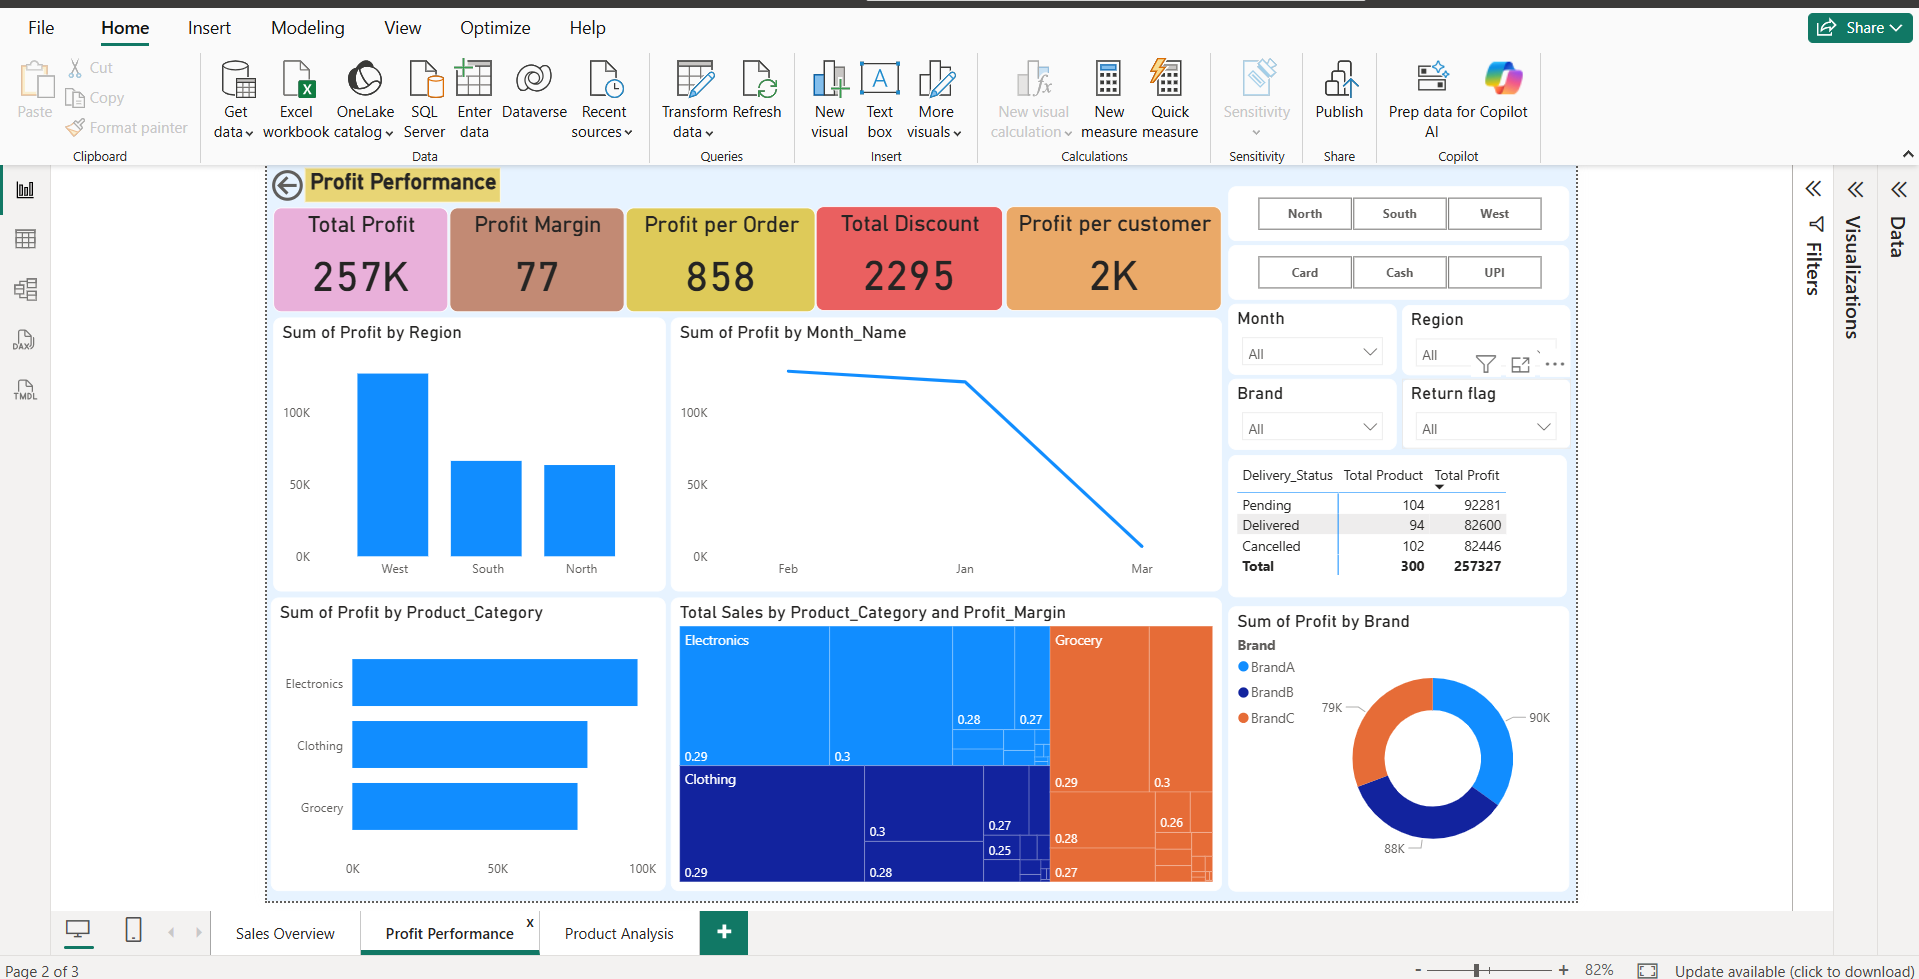

The page's visual inventory and layout, read from the dashboard file:
{"tool":"powerbi","page":{"name":"Profit Performance","canvas":[1280,720],"ordinal":1},"visuals":[{"type":"card","title":"Total Profit","fields":{"Values":["Sheet1.Total Profit"]},"box":[6.1,41.6,171.2,102.7],"z":0},{"type":"card","title":"Profit Margin","fields":{"Values":["Sum(Sheet1.Profit_Margin)"]},"box":[178.5,41.6,171.2,102.7],"z":1000},{"type":"card","title":"Profit per customer","fields":{"Values":["Sheet1.Profit per customer"]},"box":[722.7,40.4,211.6,102.7],"z":2000},{"type":"card","title":"Profit per Order","fields":{"Values":["Sheet1.Profit Per Order"]},"box":[351,41.6,185.9,102.7],"z":3000},{"type":"lineChart","fields":{"Y":["Sum(Sheet1.Profit)"],"Category":["Sheet1.Month_Name"]},"box":[395,149.2,539.3,267.8],"z":4000},{"type":"columnChart","fields":{"Y":["Sum(Sheet1.Profit)"],"Category":["Sheet1.Region"]},"box":[6.1,149.2,384,267.8],"z":5000},{"type":"barChart","fields":{"Y":["Sum(Sheet1.Profit)"],"Category":["Sheet1.Product_Category"]},"box":[3.7,423.1,386.4,287.4],"z":6000},{"type":"pivotTable","fields":{"Rows":["Sheet1.Delivery_Status"],"Values":["Sheet1.Total Product","Sheet1.Total Profit"]},"box":[940.4,283.7,331.4,139.4],"z":7000},{"type":"actionButton","box":[0,0,100,40],"z":8000},{"type":"slicer","title":"Month","fields":{"Values":["Sheet1.Month_Name"]},"box":[940.4,135.7,165.1,69.7],"z":9000},{"type":"slicer","title":"Region ","fields":{"Values":["Sheet1.Region"]},"box":[1110.3,137,165.1,68.5],"z":10000},{"type":"slicer","title":"Return flag ","fields":{"Values":["Sheet1.Return_Flag"]},"box":[1110.3,209.1,165.1,68.5],"z":11000},{"type":"slicer","title":"Brand","fields":{"Values":["Sheet1.Brand"]},"box":[940.4,209.1,165.1,69.7],"z":12000},{"type":"donutChart","fields":{"Category":["Sheet1.Brand"],"Y":["Sum(Sheet1.Profit)"]},"box":[940.4,431.7,333.8,278.8],"z":13000},{"type":"card","title":"Total Discount","fields":{"Values":["Sheet1.Gross Discount"]},"box":[536.8,40.4,183.4,102.7],"z":14000},{"type":"slicer","title":"Brand","fields":{"Values":["Sheet1.Payment_Method"]},"box":[940.4,78.3,333.8,53.8],"z":15000},{"type":"slicer","title":"Brand","fields":{"Values":["Sheet1.Region"]},"box":[940.4,20.8,333.8,53.8],"z":16000},{"type":"treemap","fields":{"Group":["Sheet1.Product_Category"],"Details":["Sheet1.Profit_Margin"],"Values":["Sheet1.Total Sales"]},"box":[395,423.1,539.3,287.4],"z":17000},{"type":"actionButton","title":"Profit Performance","box":[36.7,2.4,192,34.2],"z":18000}]}

Visuals, with their boxes on the page's 1280x720 design canvas (x1, y1, x2, y2). These are canvas units, not pixel positions in the 1919x979 screenshot, which may show the page scaled, cropped or inside an application window:
"Total Profit" card: (x1=6, y1=42, x2=177, y2=144)
"Profit Margin" card: (x1=178, y1=42, x2=350, y2=144)
"Profit per customer" card: (x1=723, y1=40, x2=934, y2=143)
"Profit per Order" card: (x1=351, y1=42, x2=537, y2=144)
lineChart - Sum(Sheet1.Profit) x Sheet1.Month_Name: (x1=395, y1=149, x2=934, y2=417)
columnChart - Sum(Sheet1.Profit) x Sheet1.Region: (x1=6, y1=149, x2=390, y2=417)
barChart - Sum(Sheet1.Profit) x Sheet1.Product_Category: (x1=4, y1=423, x2=390, y2=710)
pivotTable - Sheet1.Delivery_Status x Sheet1.Total Product: (x1=940, y1=284, x2=1272, y2=423)
actionButton: (x1=0, y1=0, x2=100, y2=40)
"Month" slicer: (x1=940, y1=136, x2=1106, y2=205)
"Region " slicer: (x1=1110, y1=137, x2=1275, y2=206)
"Return flag " slicer: (x1=1110, y1=209, x2=1275, y2=278)
"Brand" slicer: (x1=940, y1=209, x2=1106, y2=279)
donutChart - Sheet1.Brand x Sum(Sheet1.Profit): (x1=940, y1=432, x2=1274, y2=710)
"Total Discount" card: (x1=537, y1=40, x2=720, y2=143)
"Brand" slicer: (x1=940, y1=78, x2=1274, y2=132)
"Brand" slicer: (x1=940, y1=21, x2=1274, y2=75)
treemap - Sheet1.Product_Category x Sheet1.Profit_Margin: (x1=395, y1=423, x2=934, y2=710)
"Profit Performance" actionButton: (x1=37, y1=2, x2=229, y2=37)
